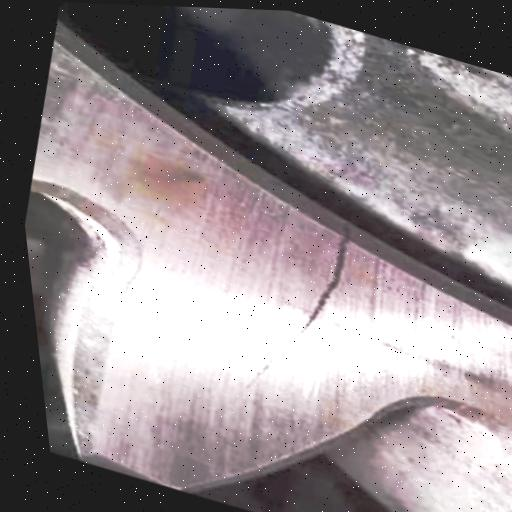crack: (210, 196, 395, 433)
